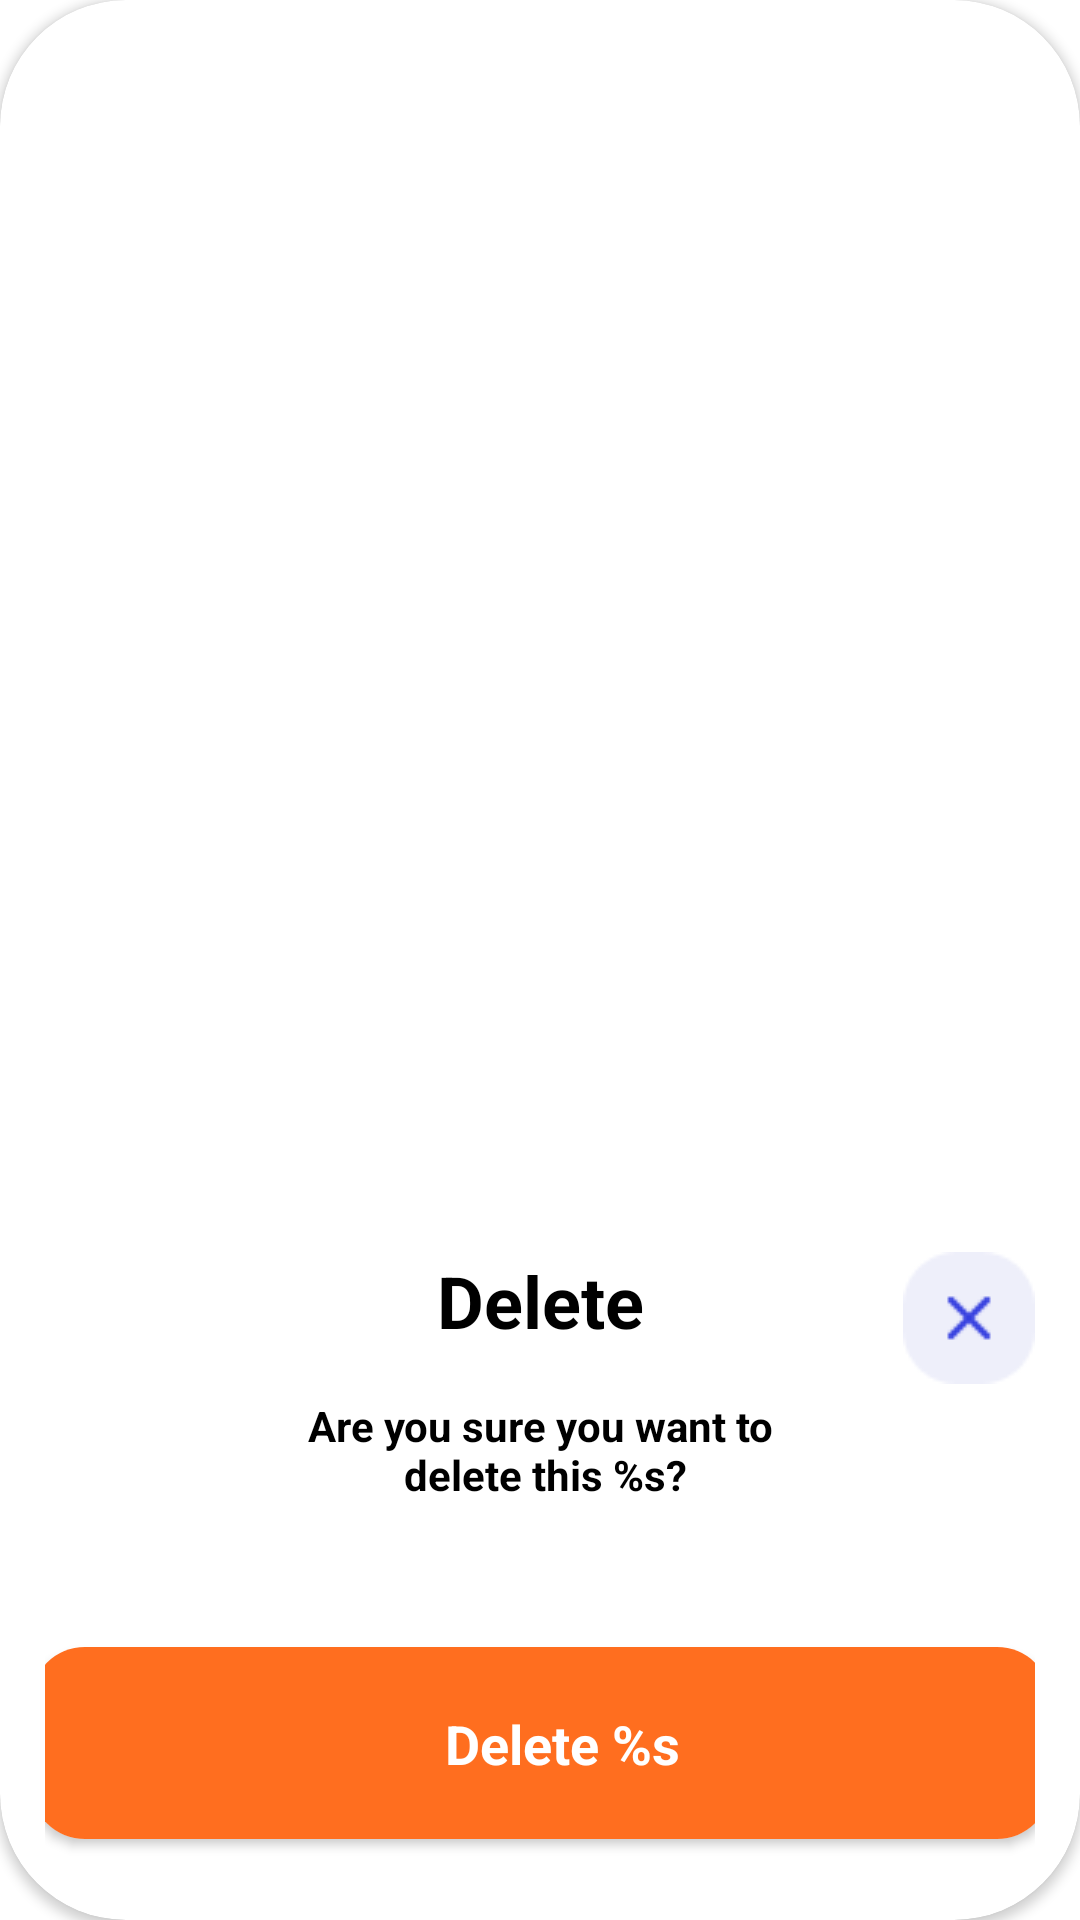

Icon bounding boxes for this 1080*1920 phone screenshot, format bbox=[x1, y1, x2, y2]:
close: bbox=[947, 1296, 991, 1340]
